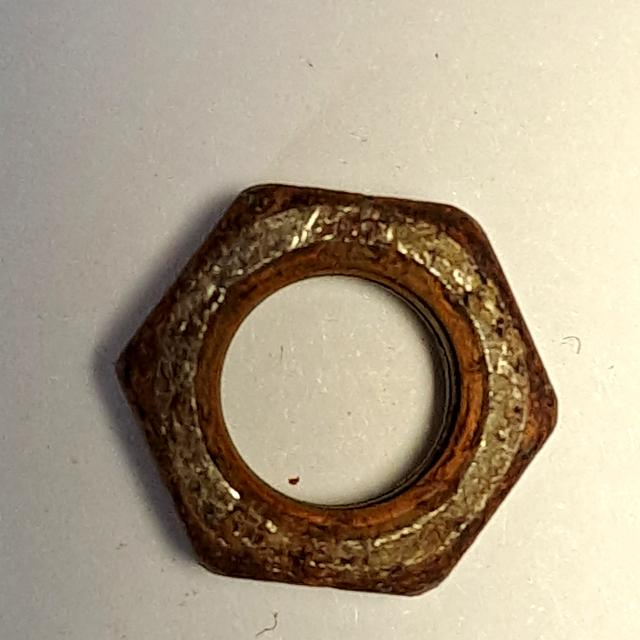Rust: (100, 169, 570, 611)
